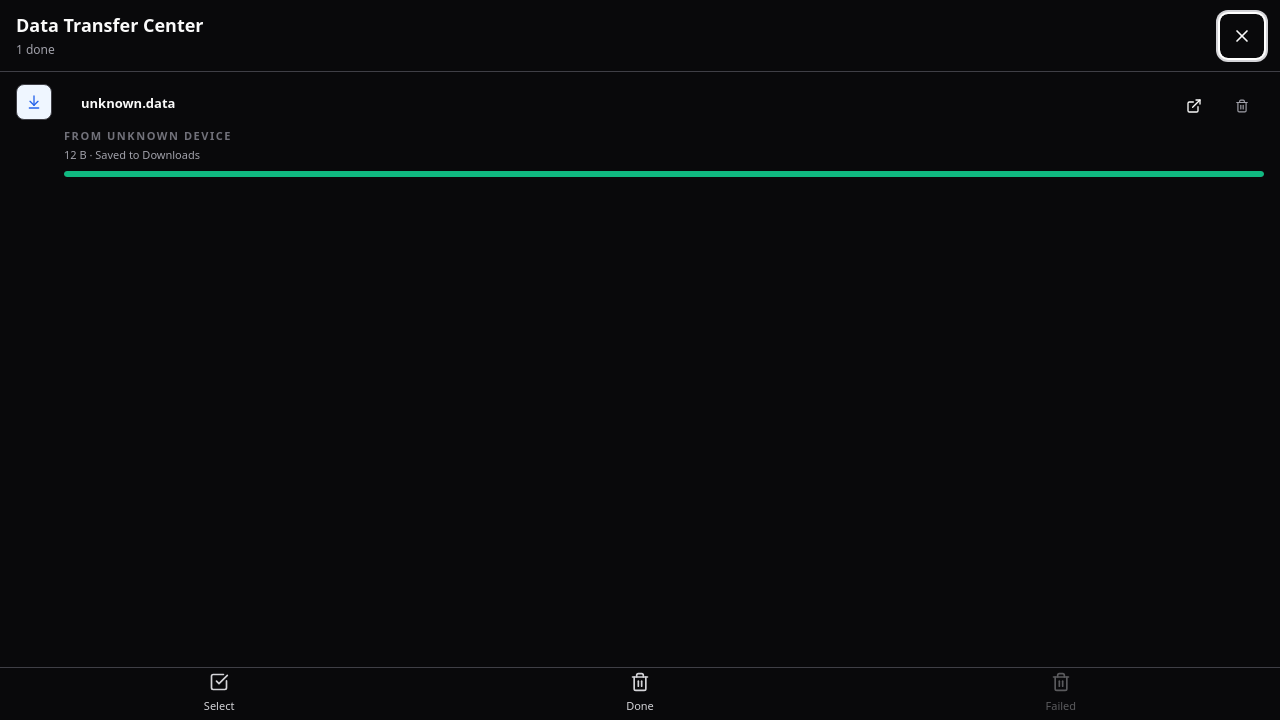
Test: FileTransferPanel › keeps a completed download visible when the system cannot open it
Click the button named "Open unknown.data": [1194, 106] box [1172,84,1216,128]
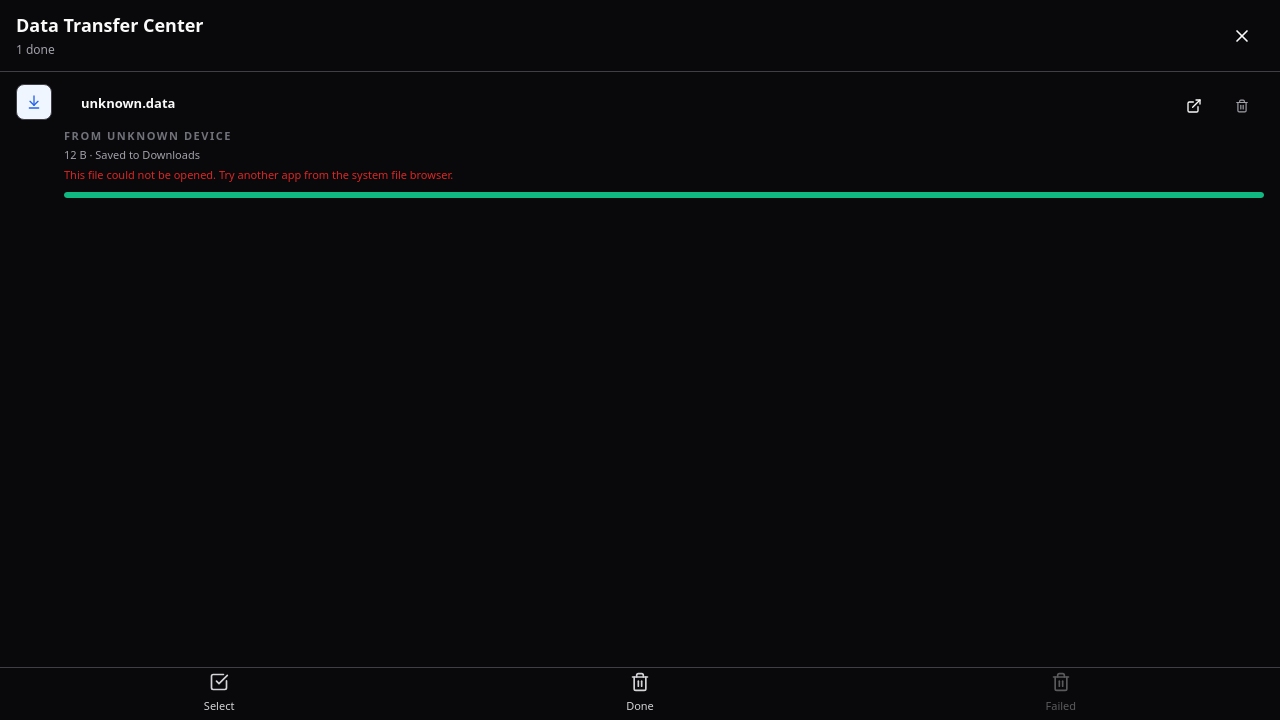
Expected: the button "unknown.data" is shown, [64,84,192,124]
Now the message shows "This file could not be opened.", box [64,167,453,182]
